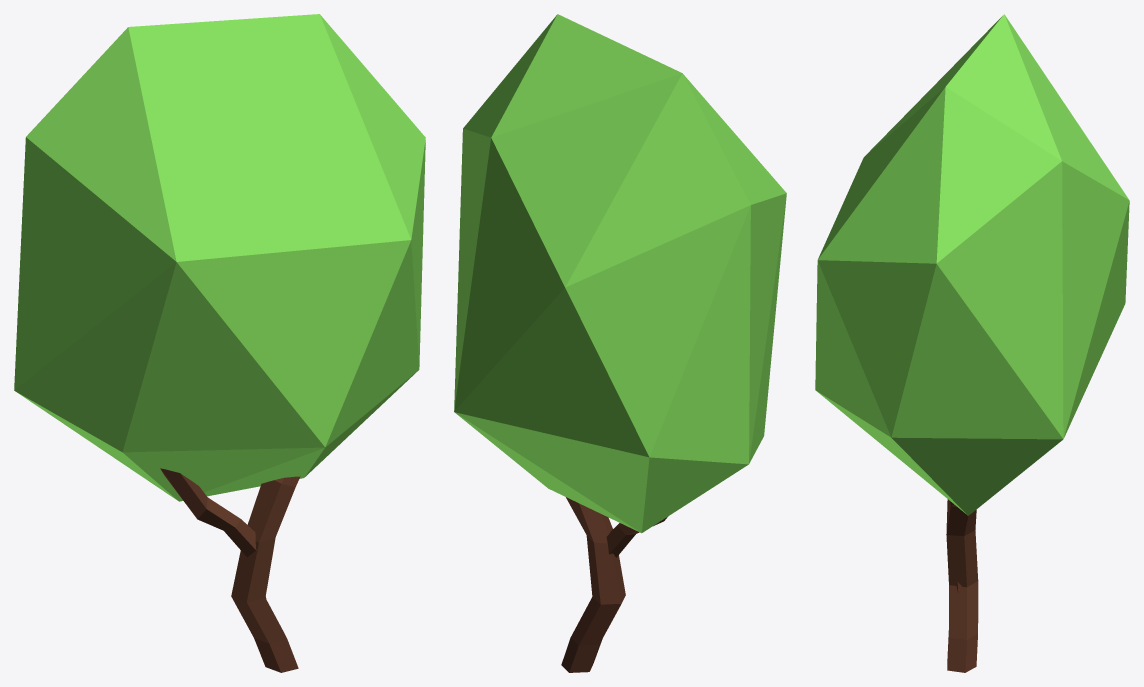
File: Shrub_03.fbx
The picture shows the model from 3 angles, left to right: view 1: azimuth 30°, elevation 25°; view 2: azimuth 150°, elevation 25°; view 3: azimuth 270°, elevation 25°; orthographic projection. The views are drawn at different scales.
Parts seen in each view (by area): view 1: Shrub_03; view 2: Shrub_03; view 3: Shrub_03.
Boxes of the visible parts, x1,y1,x2,y2 form: Shrub_03: (14, 14, 425, 672); Shrub_03: (454, 14, 786, 672); Shrub_03: (815, 14, 1129, 672).
Bounding box in the file's own units: 126 × 223 × 107.
